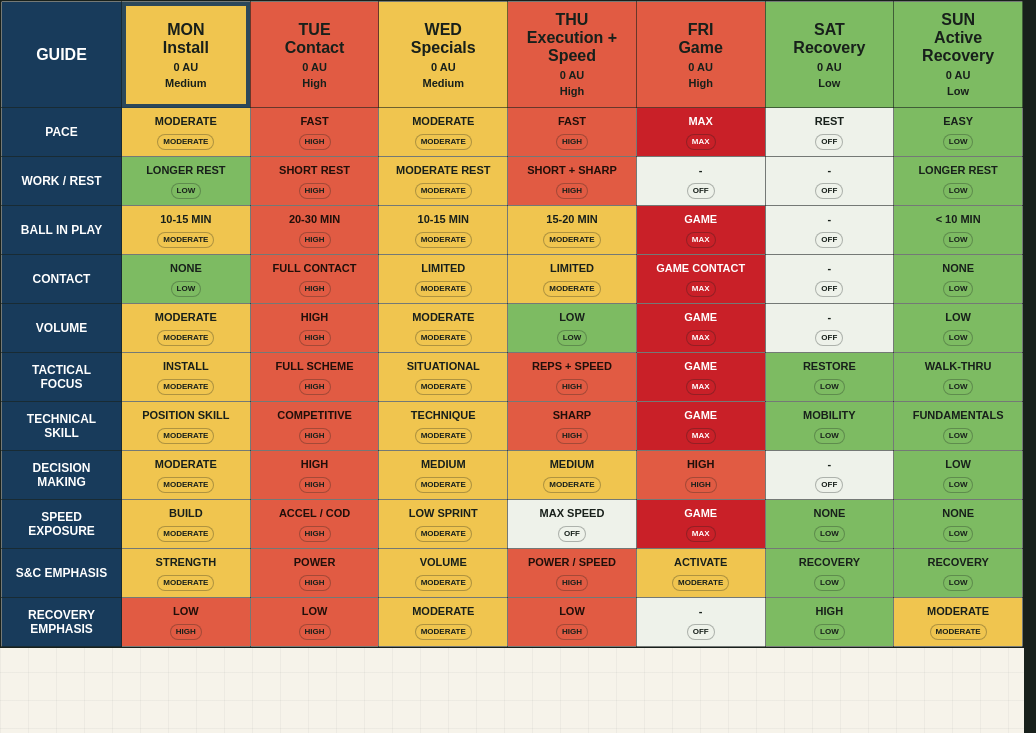
Test: DemandGridComponent › opens a custom active-cell editor with demand previews
The width and height of the screenshot is (1036, 733).
Click the 1st button with class "cell-intent-trigger".
click(186, 132)  # box x1=122 y1=108 x2=250 y2=156
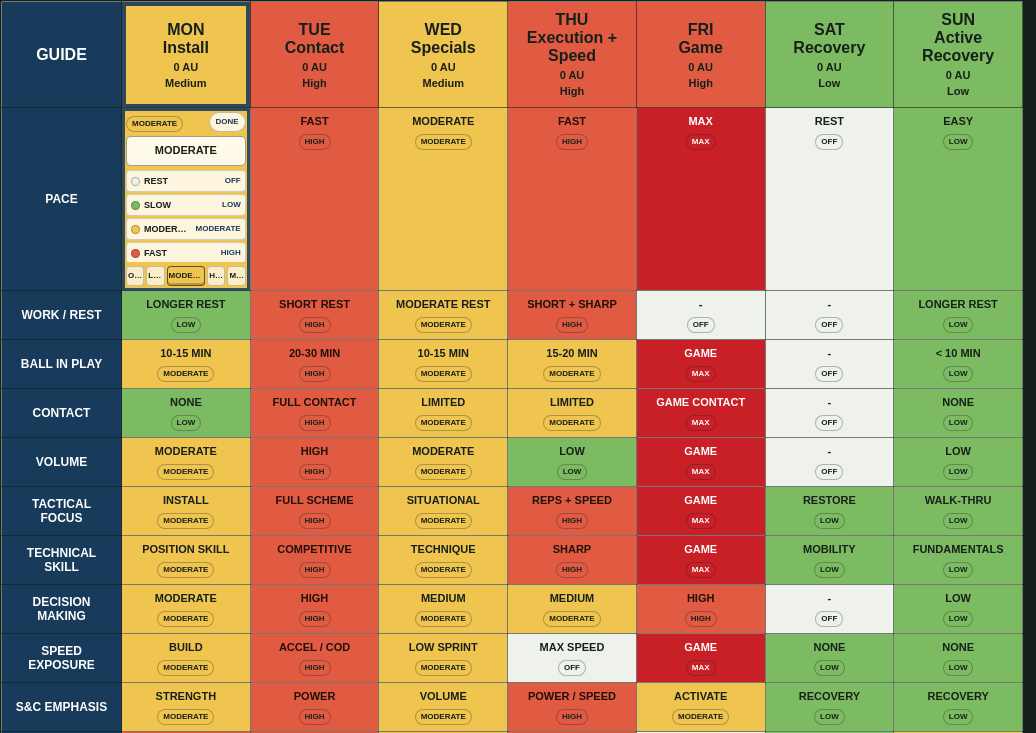
Expected: the field with class "cell-intent-input" is shown, x1=126 y1=136 x2=246 y2=166
